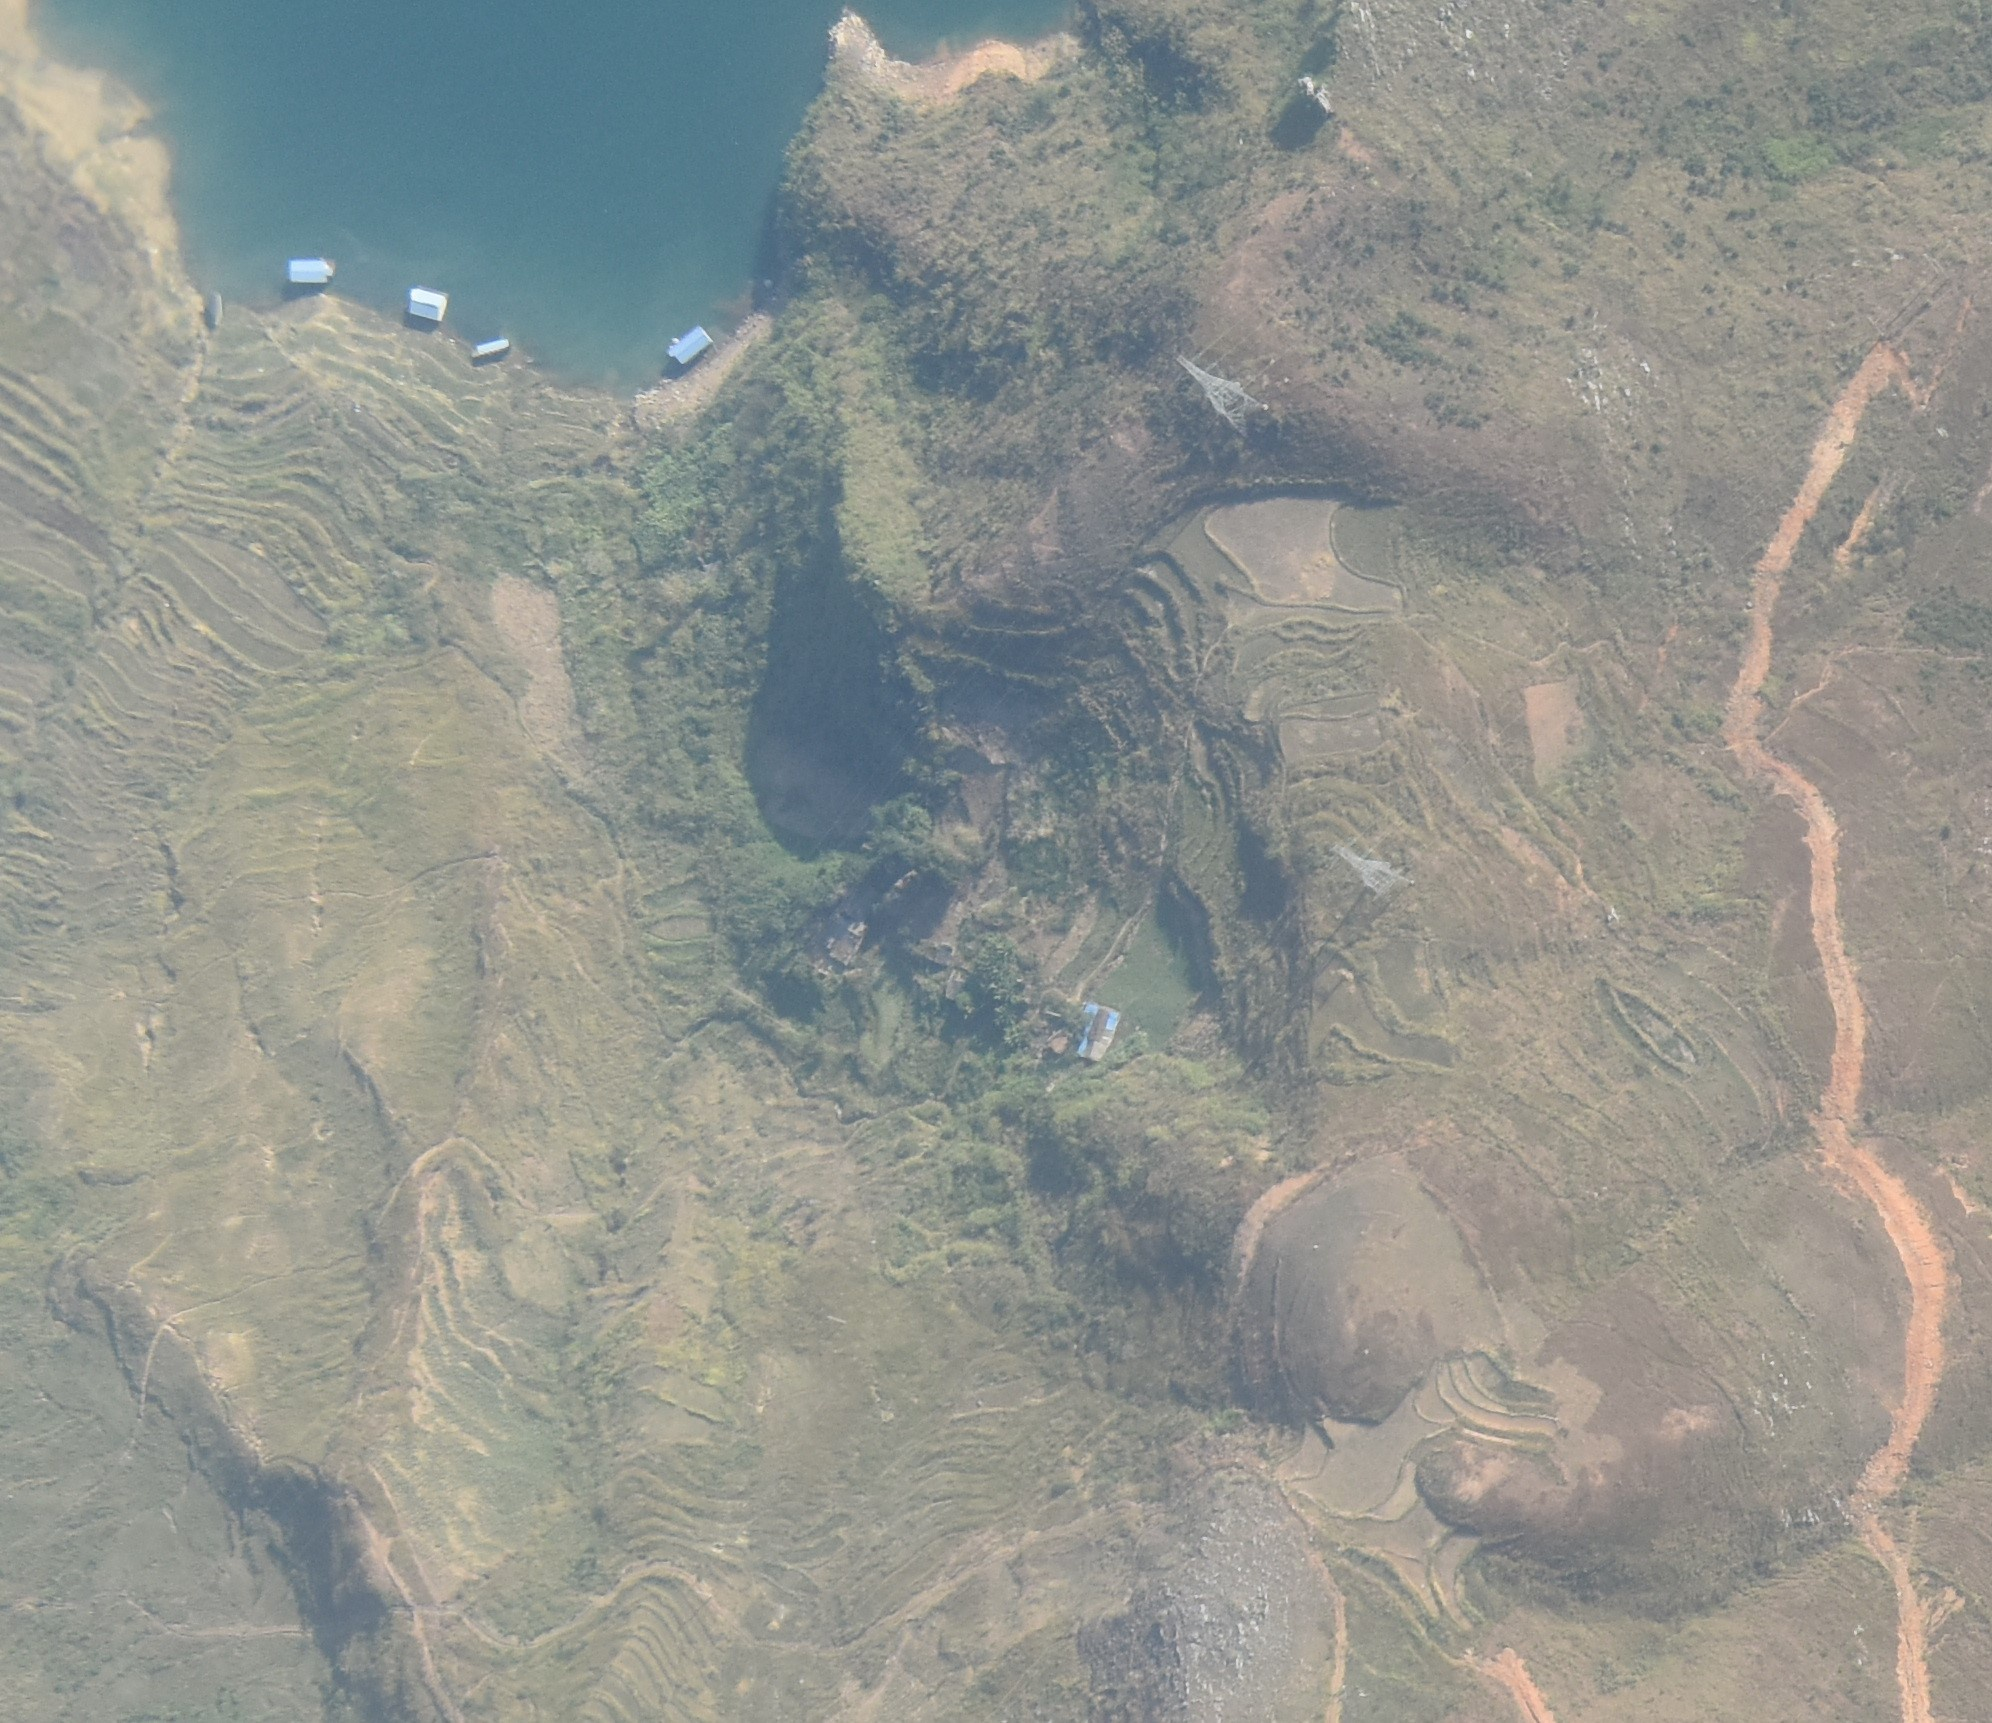cable-tower: (1176, 344, 1270, 440), (1320, 828, 1416, 911)
prefabricated-house: (1077, 1001, 1121, 1066), (671, 324, 711, 368), (408, 286, 445, 320), (290, 252, 325, 283), (474, 337, 506, 357)
